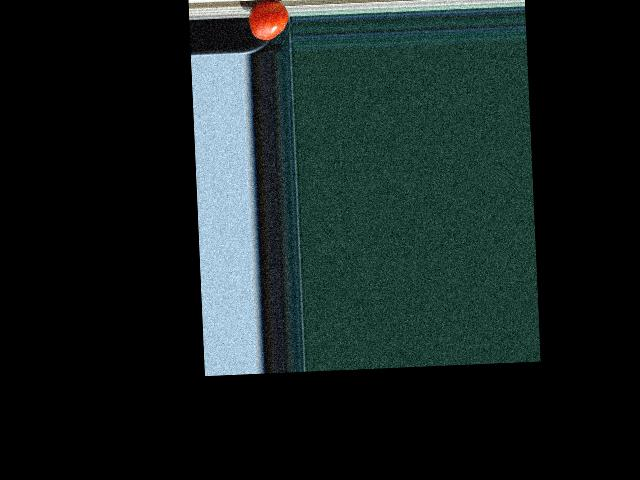tomato: (248, 0, 289, 41)
